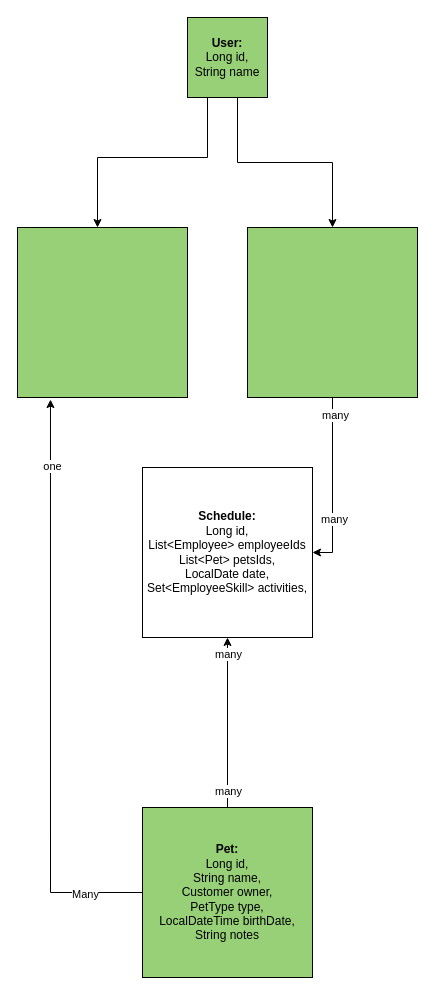
Image size: 435x995. Some labels were removed from this diagram. The shapes that lost their labels are listed below. From the top down, each one's box as (x1, y1, x2, y2) in pixels, then its label:
(16, 226, 188, 398): Customer: String phoneNumber, List<Pet> pets, String notes
(246, 226, 418, 398): Employee: Set<EmployeeSkill > skills, Set<DaysOfTheWeek> daysAvaliable
